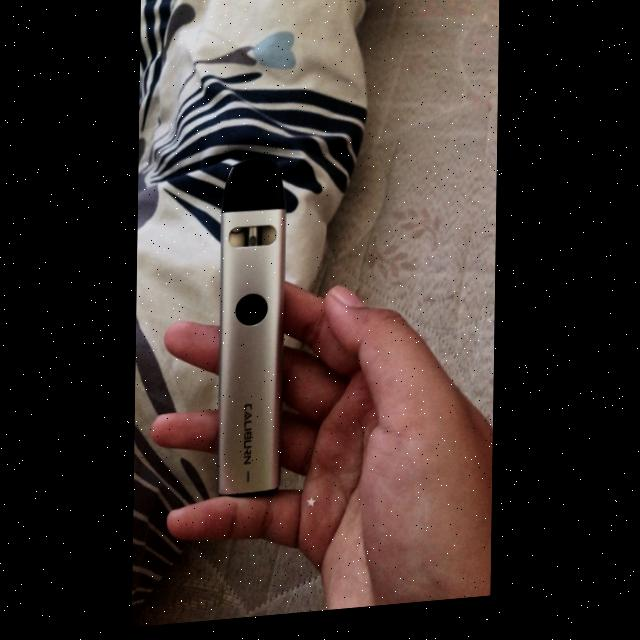vape: (217, 157, 286, 501)
